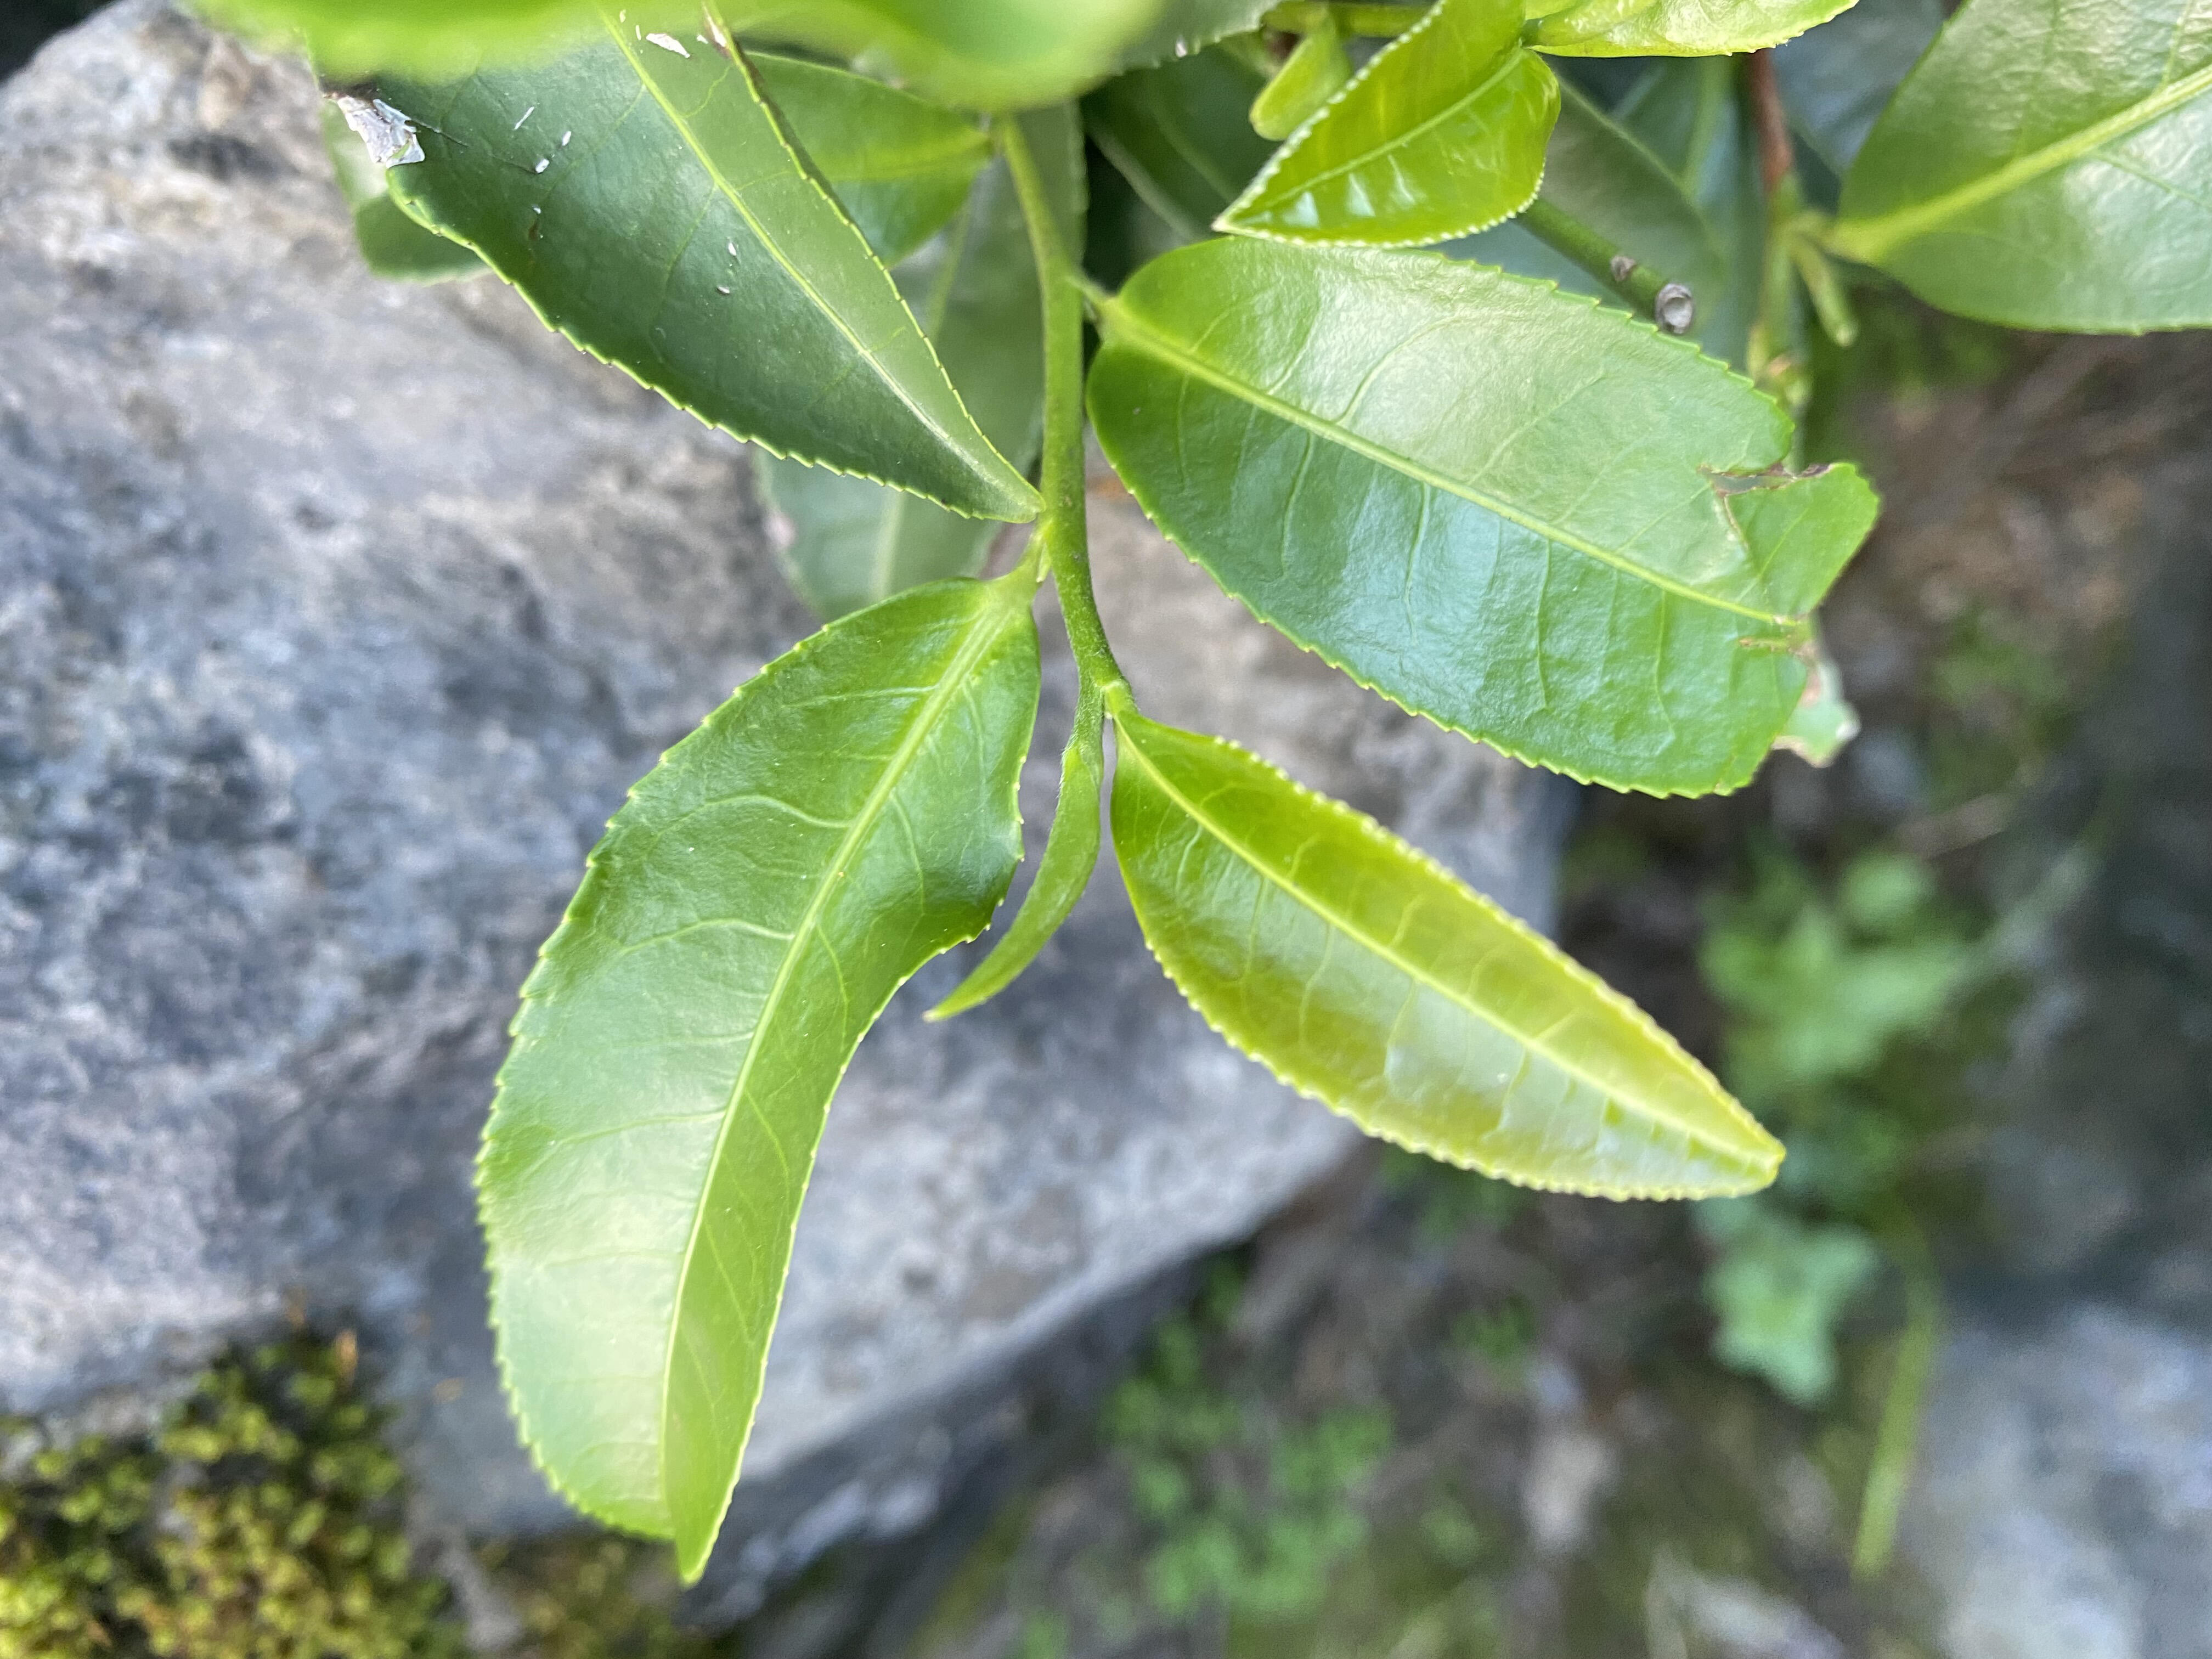chihuo_low: (1085, 239, 1879, 803)
healthy: (475, 570, 1045, 1600), (1108, 725, 1785, 1201), (1212, 5, 1561, 244)
